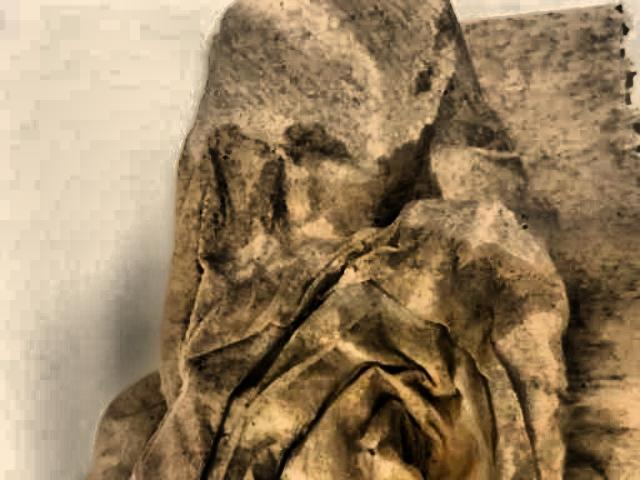Paper: (3, 7, 638, 480)
